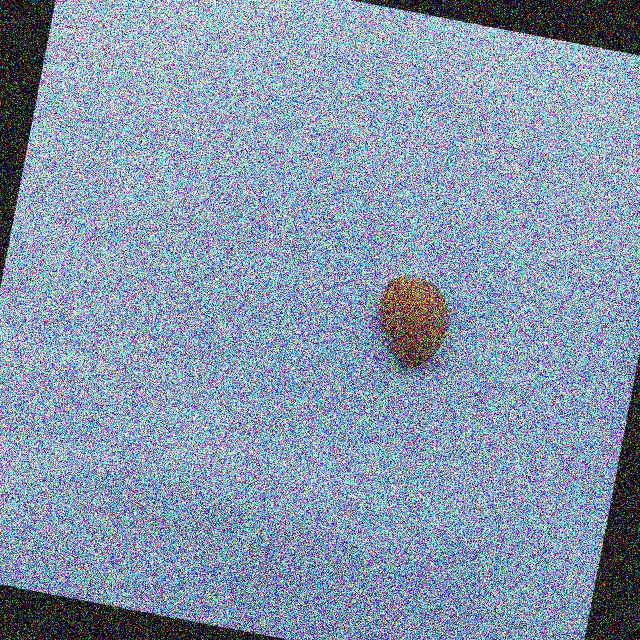grade2: (362, 267, 459, 377)
